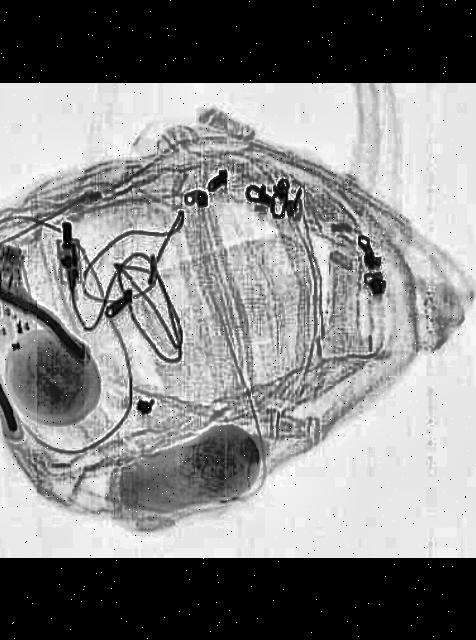Pliers: (0, 221, 100, 405)
